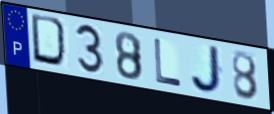3: (74, 22, 107, 77)
8: (113, 30, 145, 82), (231, 50, 260, 102)
D: (29, 12, 72, 71)
J: (189, 44, 225, 95)
L: (152, 36, 183, 89)
